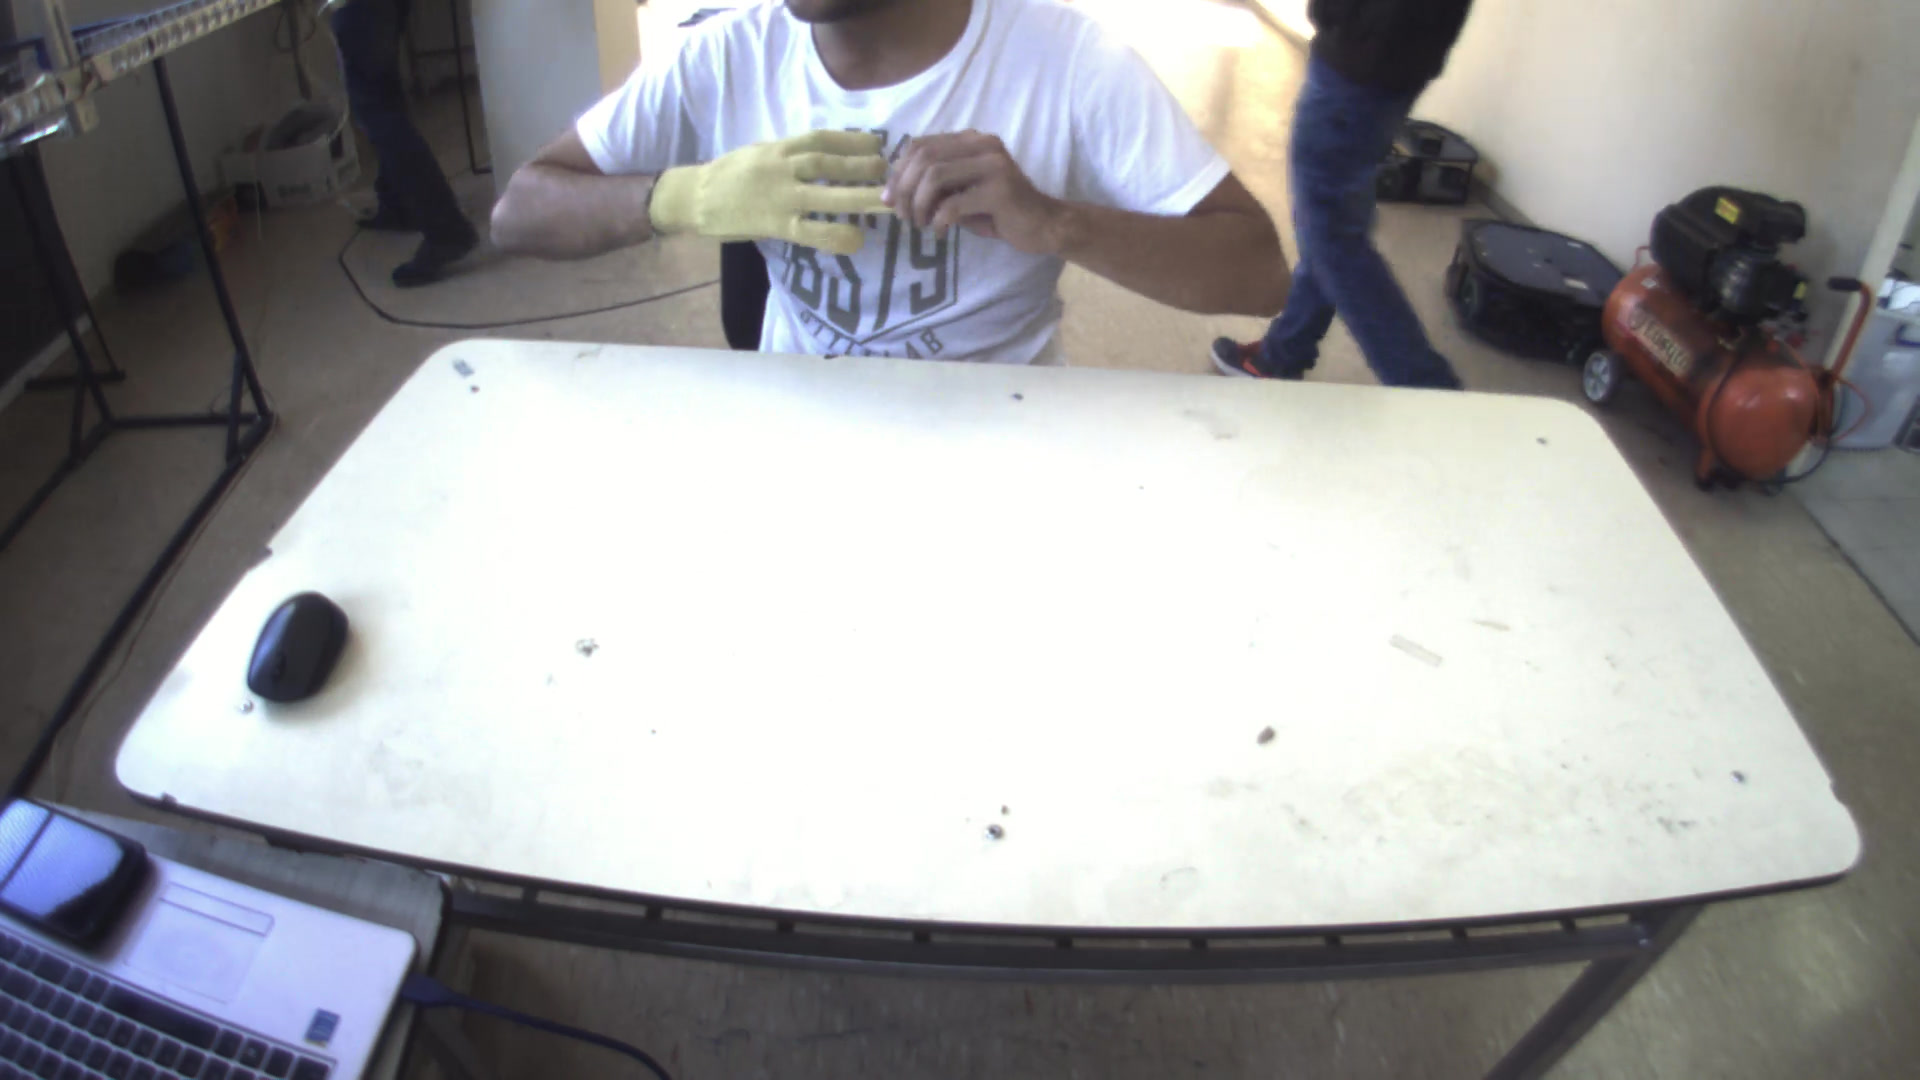hand: (644, 108, 890, 255), (881, 116, 1040, 239)
